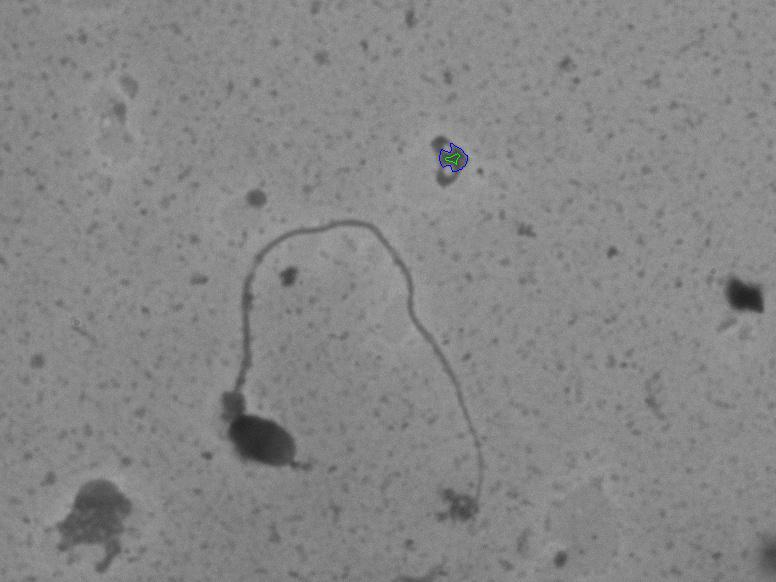Abnormal: (195, 195, 522, 531)
